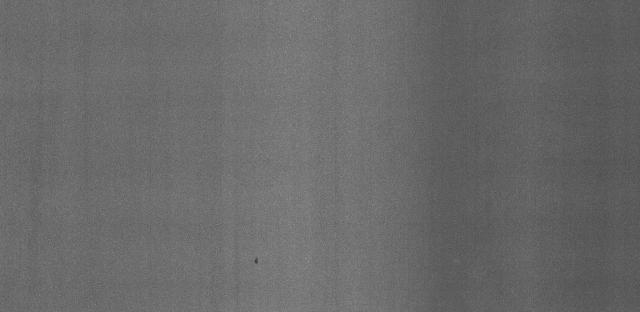inclusion: (247, 253, 262, 268)
